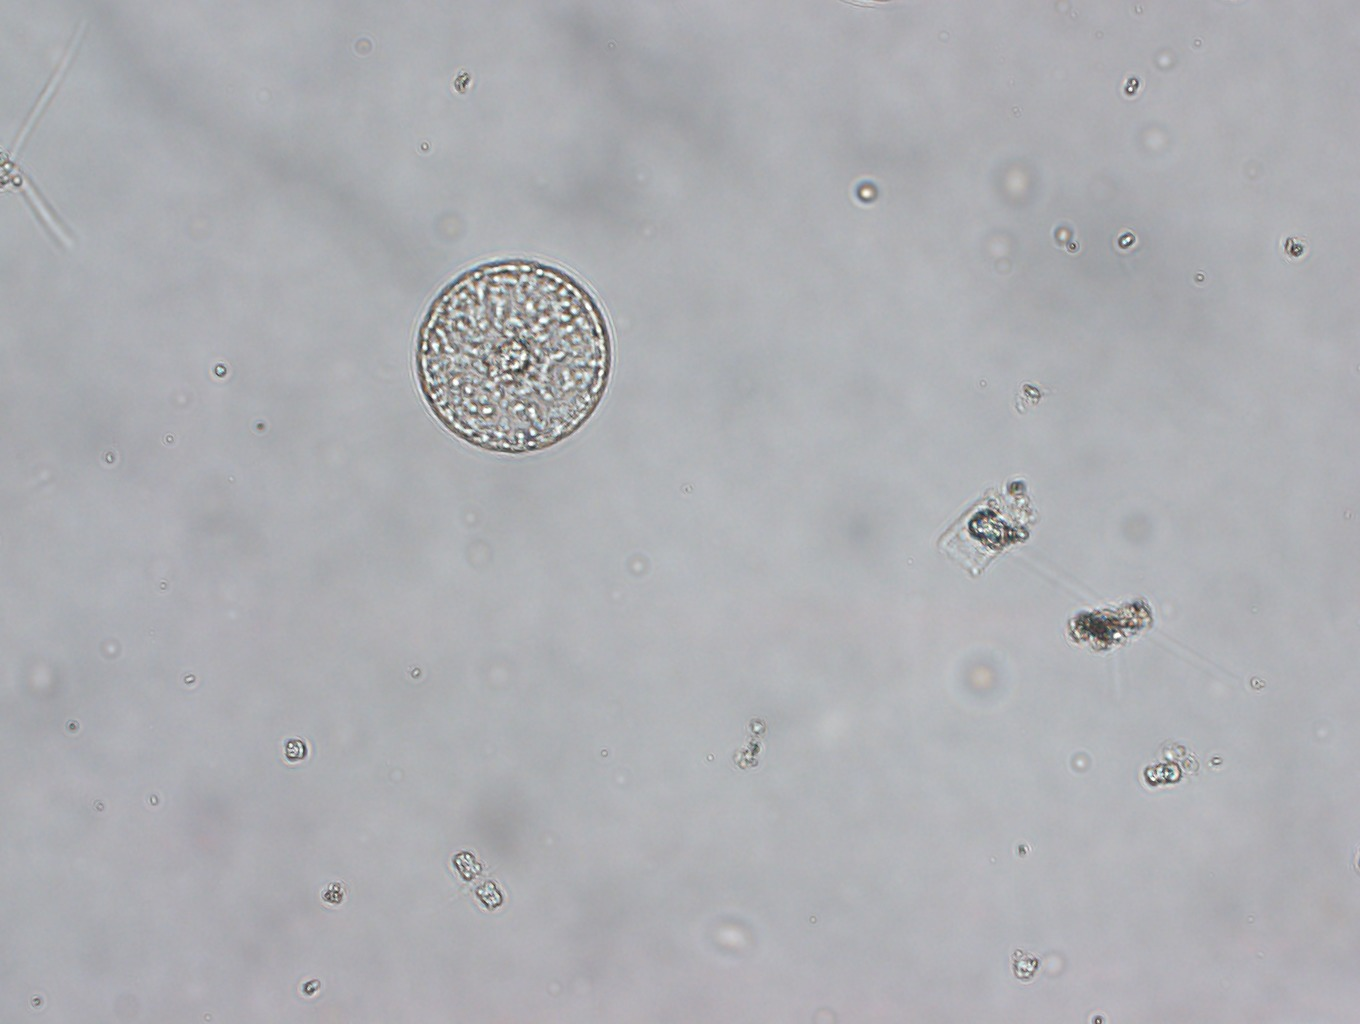coscinodiscus: (409, 251, 618, 461)
